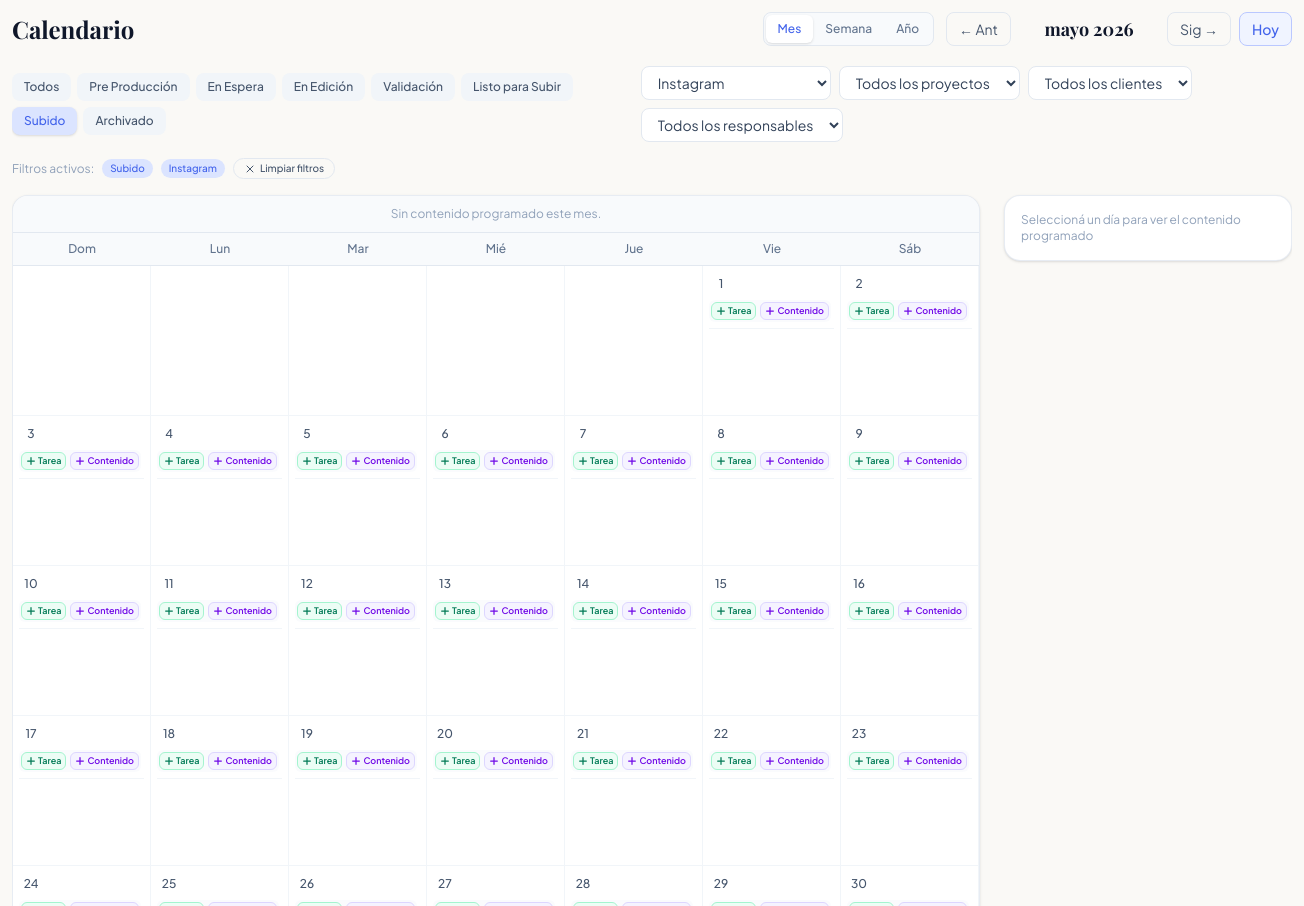
Test: Calendar — views, clear filters and legend (new features) › clears all active filters with the Limpiar filtros button
The image size is (1304, 906).
Click the button "Limpiar filtros" at (284, 168), box [233,158,335,179]
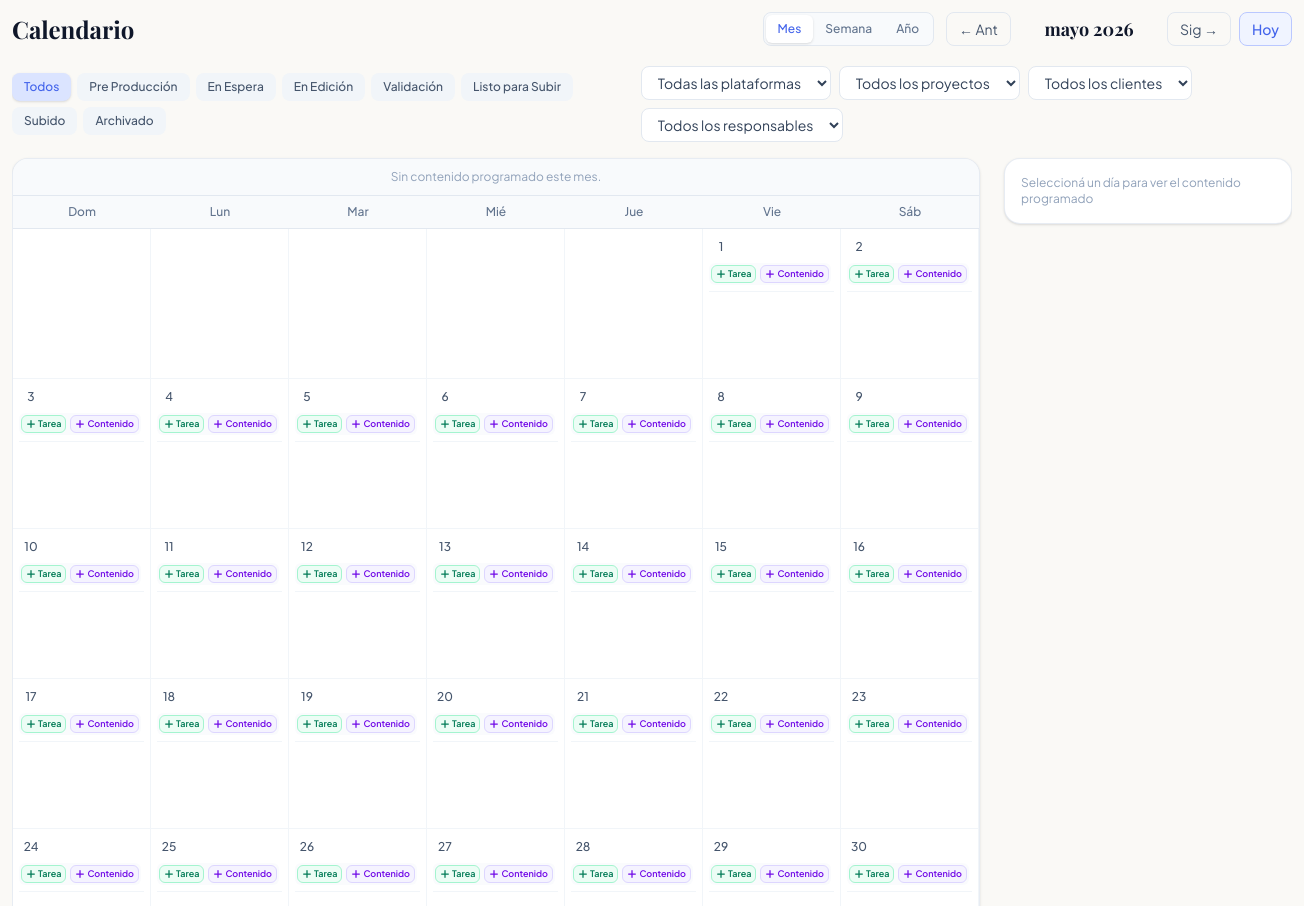
Expected: the button "Limpiar filtros" is gone
